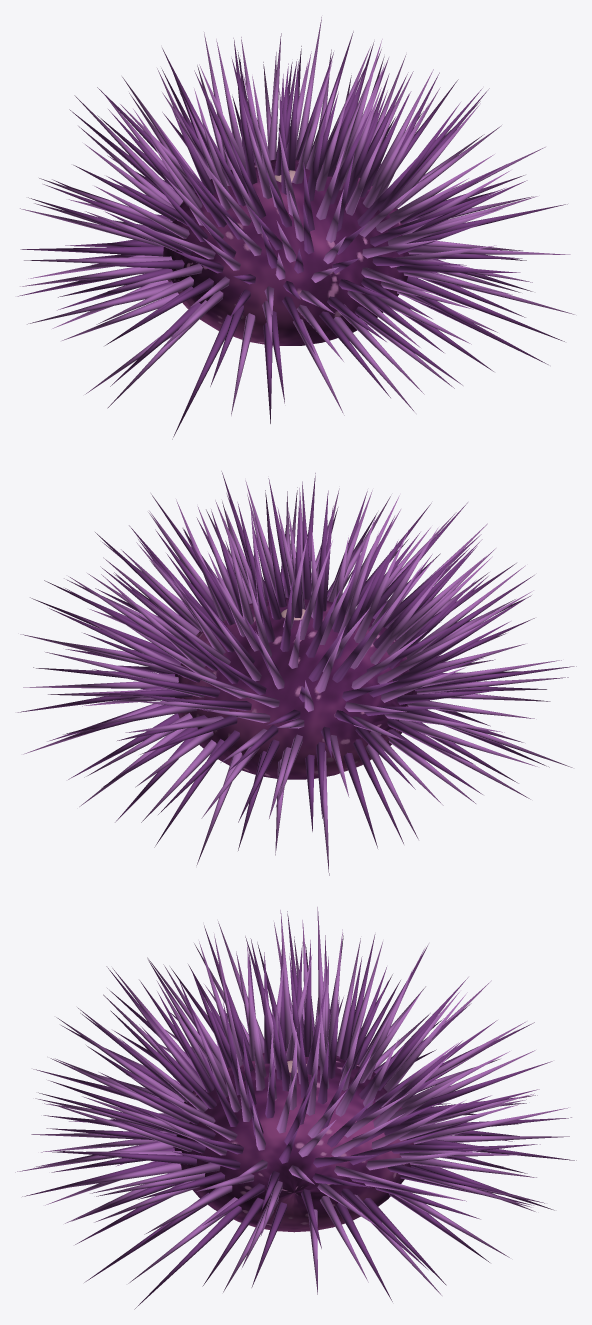
The model's file is sea-urchin.glb.
3 views of the same model, one above another, from view 1: azimuth 30°, elevation 25°; view 2: azimuth 150°, elevation 25°; view 3: azimuth 270°, elevation 25° (orthographic). The views are drawn at different scales.
Visible parts, largest first — view 1: Spines 1, Spines 0, Shell; view 2: Spines 1, Spines 0, Shell; view 3: Spines 1, Spines 0, Shell.
Boxes of the visible parts, box(x1,y1,x2,y2) form: Spines 1: box(20, 17, 574, 415); Spines 0: box(17, 31, 567, 439); Shell: box(163, 159, 410, 345); Spines 1: box(20, 480, 572, 875); Spines 0: box(17, 471, 576, 850); Shell: box(174, 597, 416, 779); Spines 1: box(15, 907, 569, 1295); Spines 0: box(22, 911, 576, 1309); Shell: box(173, 1050, 415, 1232).
Bounding box in the file's own units: 2.29 × 1.24 × 2.31.
Materials: 4 (1 with a texture image).
